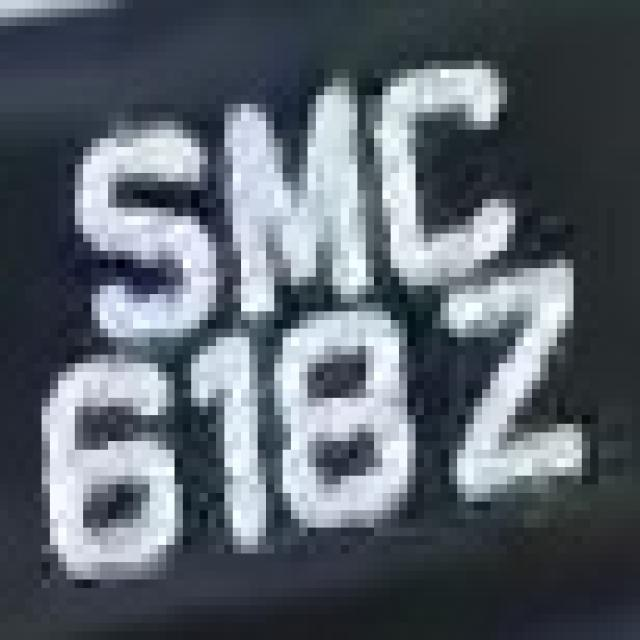1: (175, 320, 282, 554)
6: (25, 337, 191, 562)
8: (274, 303, 432, 562)
C: (374, 52, 540, 303)
M: (208, 69, 382, 346)
S: (50, 104, 208, 346)
Z: (441, 259, 615, 493)
